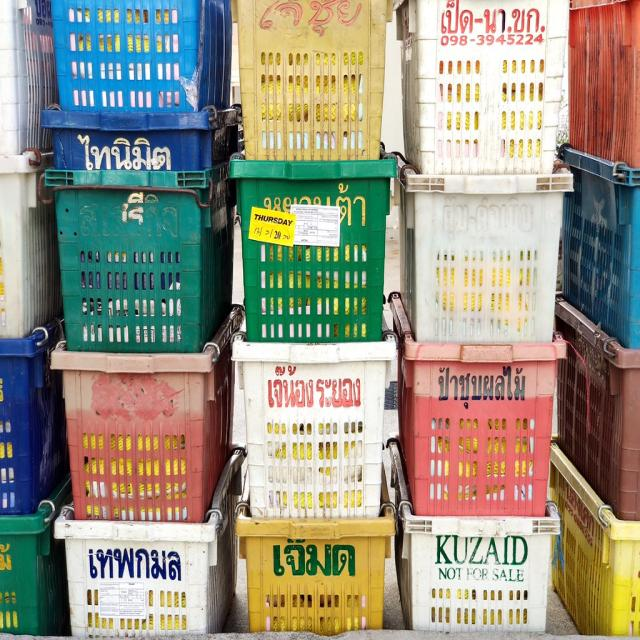basket: (233, 340, 396, 635), (51, 448, 251, 639), (45, 162, 235, 355), (389, 438, 561, 634), (61, 344, 237, 526), (395, 339, 565, 519), (231, 159, 397, 343), (402, 173, 574, 344), (237, 0, 390, 160), (557, 298, 640, 520), (551, 445, 640, 636), (563, 146, 640, 348), (41, 105, 241, 171), (0, 322, 68, 515), (569, 0, 640, 167), (0, 474, 71, 636), (0, 170, 62, 338)
